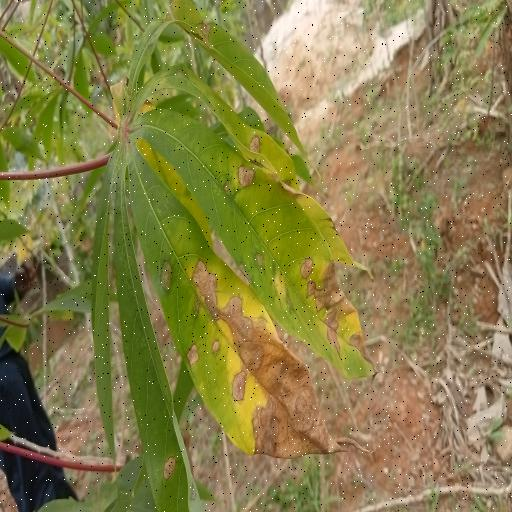Cassava_Root_Rot: (92, 9, 376, 506)
